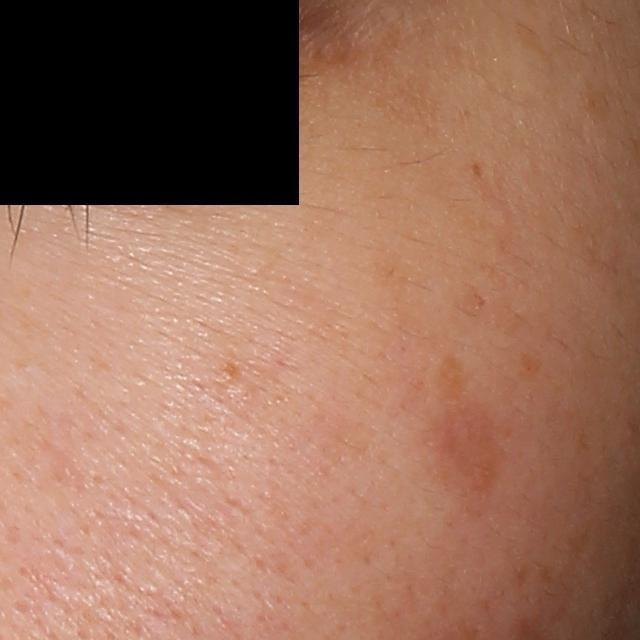melasma: (426, 355, 502, 507), (378, 66, 443, 128), (292, 38, 364, 90), (372, 241, 413, 306), (514, 22, 551, 60)
